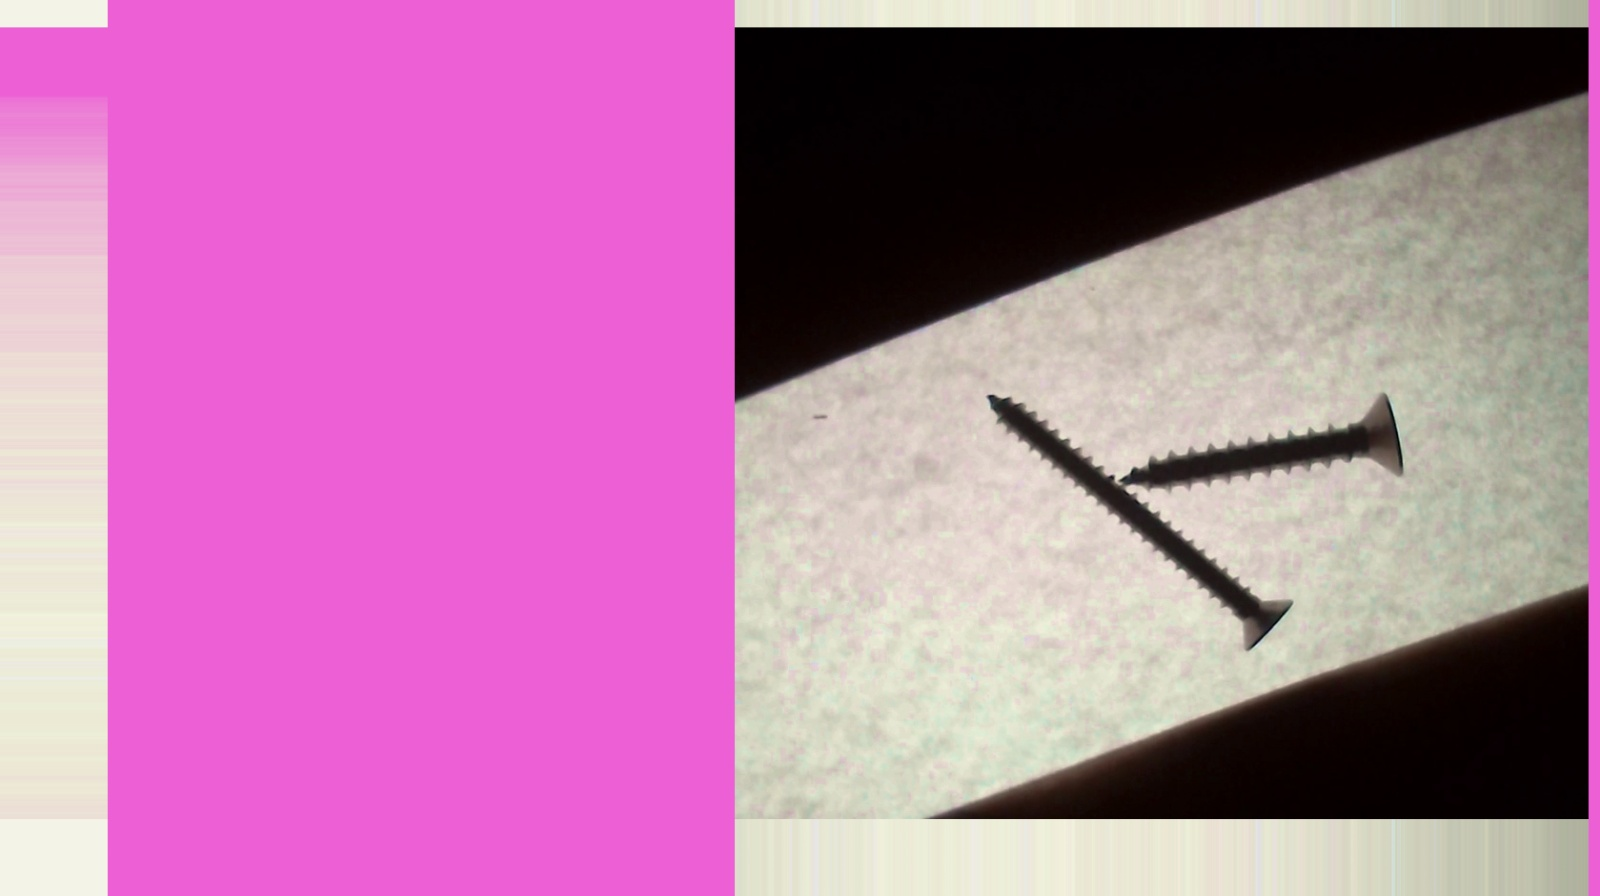S001: (1120, 383, 1412, 497)
S002: (982, 392, 1297, 652)
